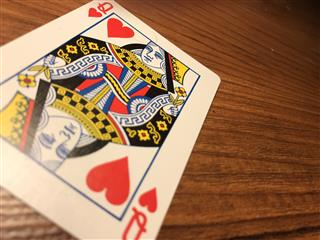QueenOfHearts: (1, 1, 221, 240)
